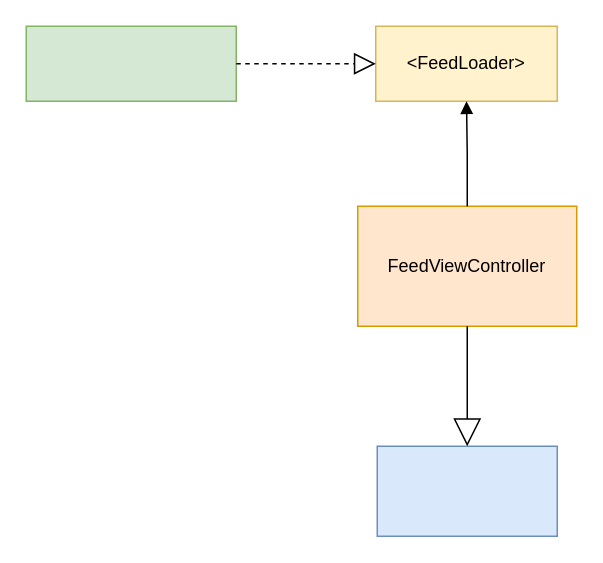
Image size: 603x563. Some labels were removed from this diagram. The centre of each missing label's shape, as x and y in pixels:
"RemoteFeedLoader" goes at pixel 130 63.
"UIViewController" goes at pixel 466 490.
